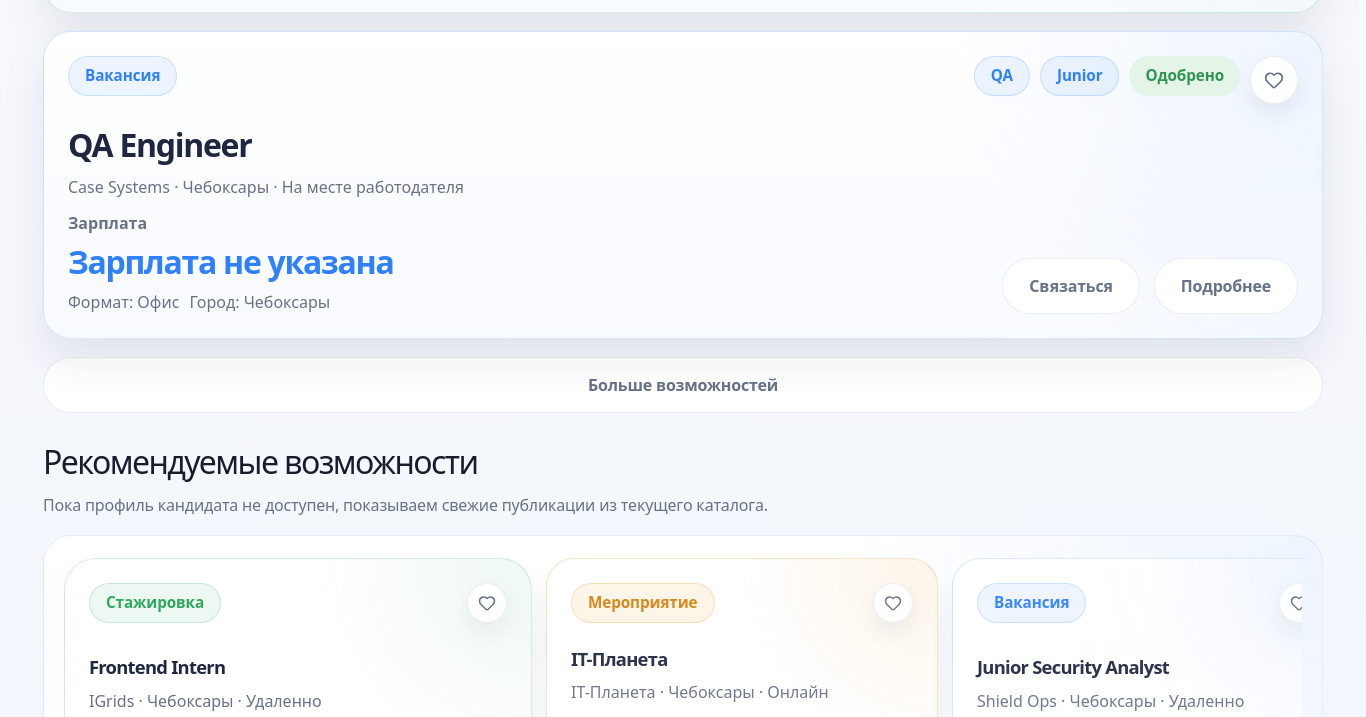
Test: OpportunitiesCatalogApp › shows the first three opportunities and expands the list by three more
(page scrolled)
Check: the heading "QA Engineer" is shown, box [68,123,252,166]
Check: the text "Product Designer" is not shown
Click the button "Больше возможностей" at (683, 385), box [43,357,1323,413]
(page scrolled)
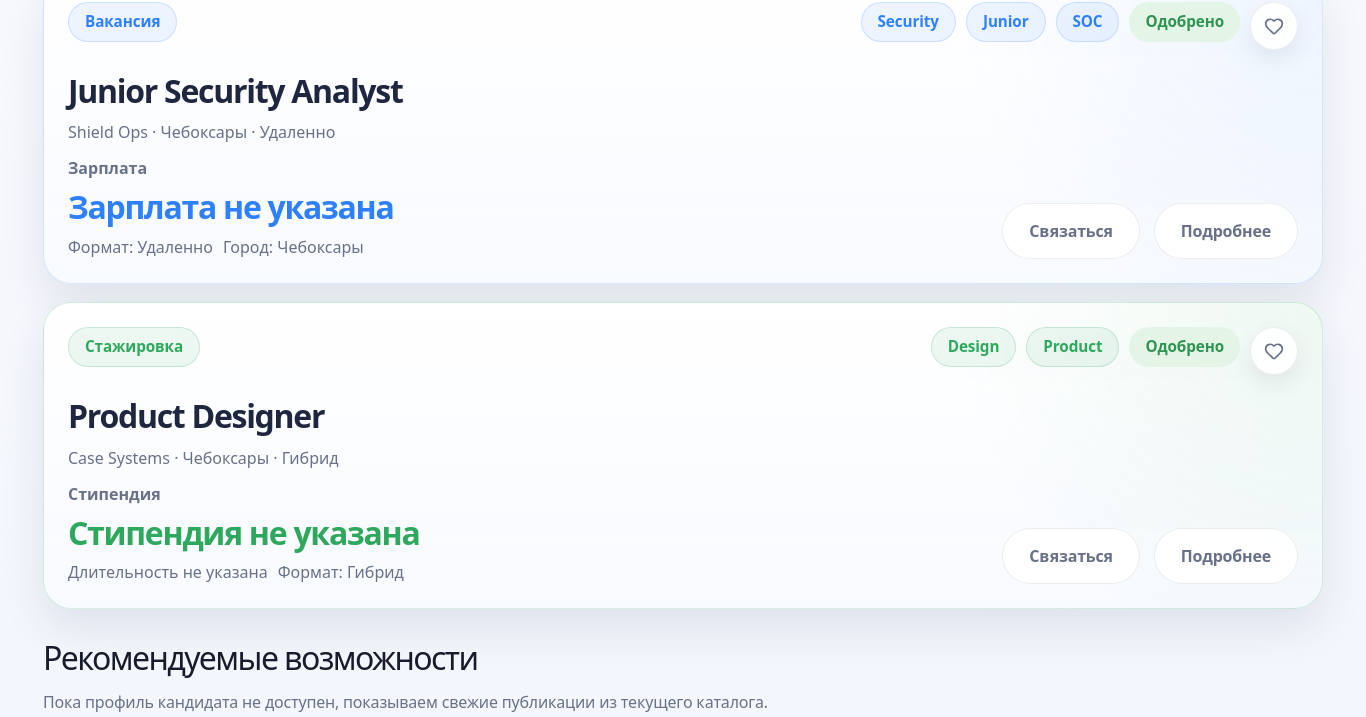
Check: the heading "Product Designer" is shown, box [68,394,324,437]
